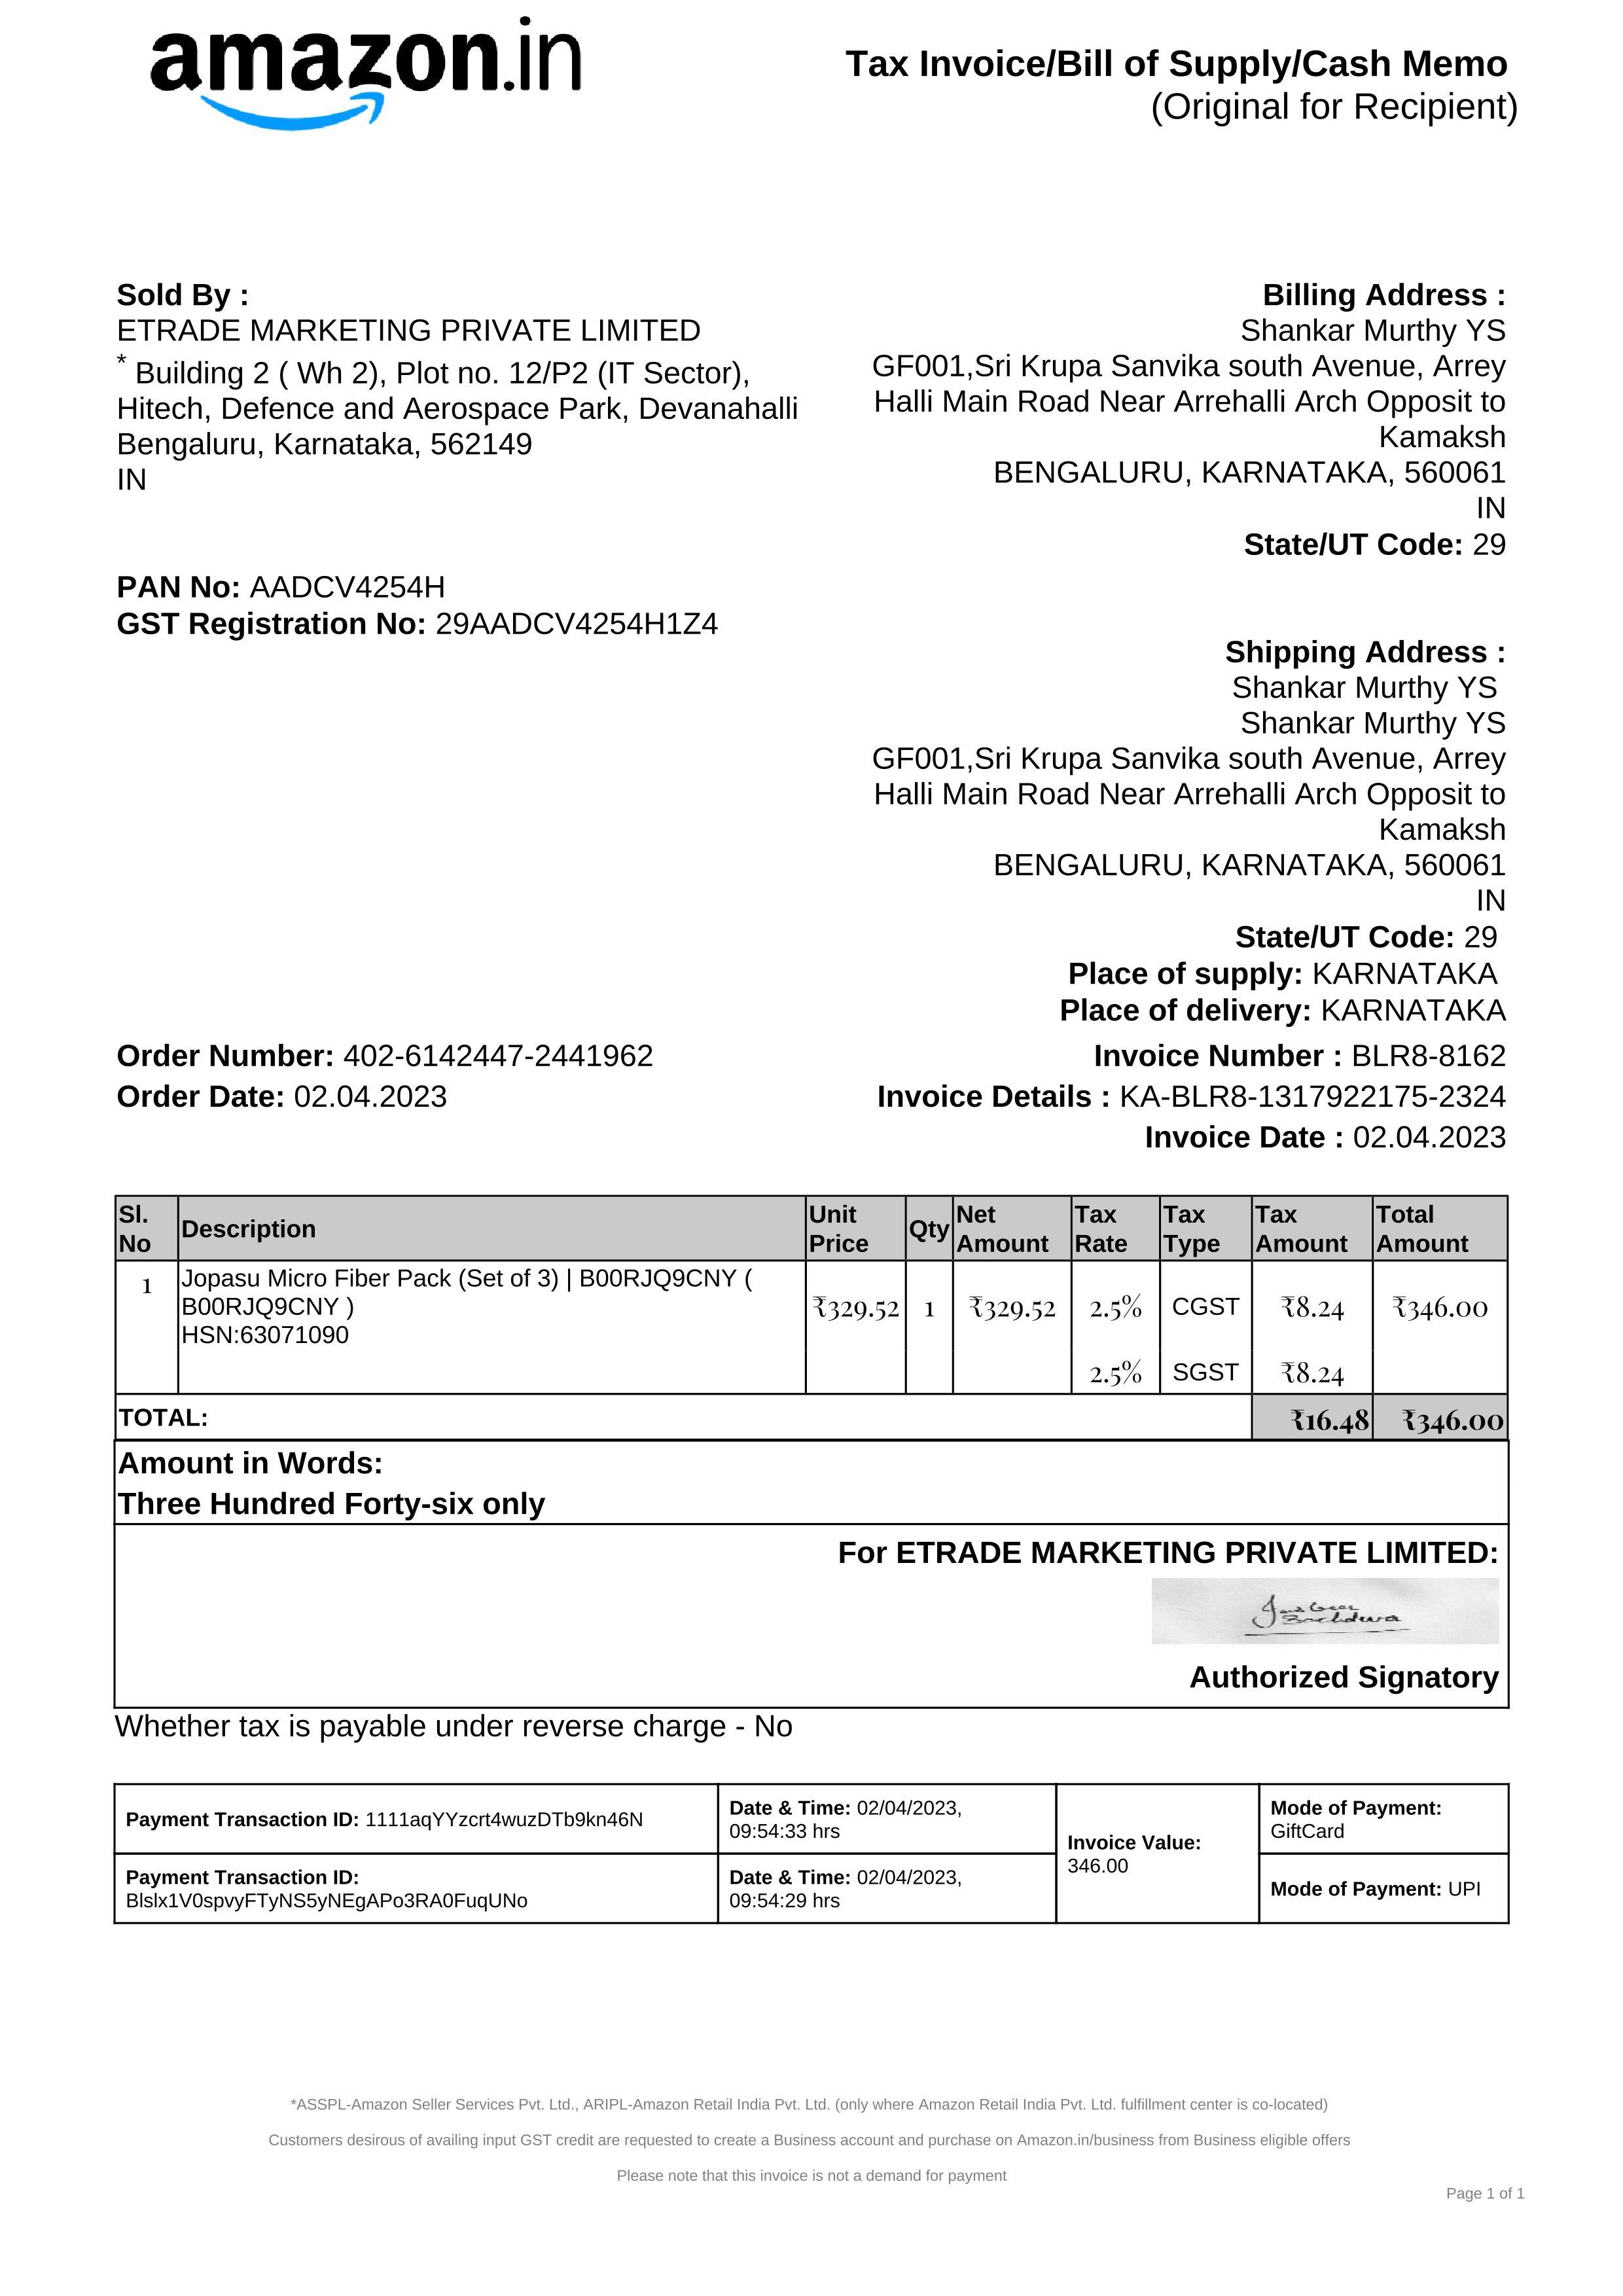InvoiceDate: (1347, 1117, 1512, 1156)
InvoiceNumber: (1347, 1038, 1516, 1077)
TotalAmount: (1386, 1397, 1507, 1444)
